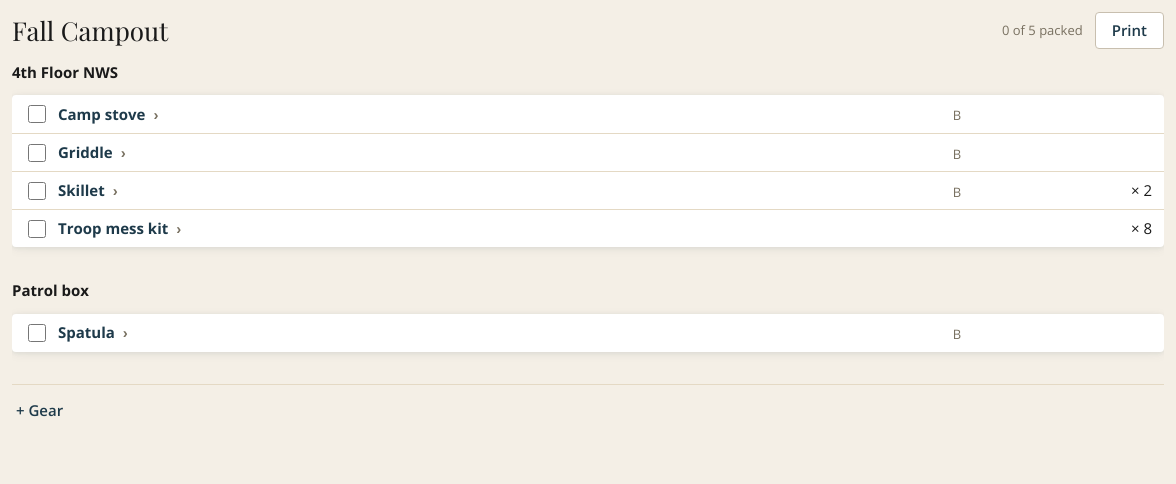
Test: Gear tab › Ticking_SavesAtOnce_WithTheCount_AndShowsWho
Click the checkbox named "Skillet packed": (37, 190) [28,182,46,200]
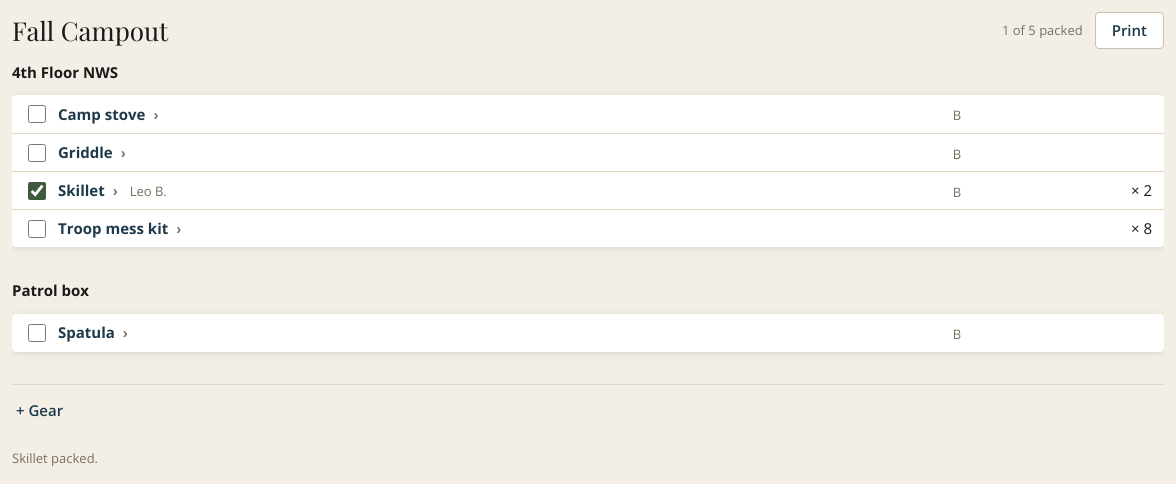
Result: the list item "Skillet › Leo B. B × 2" is shown at [12,171,1164,209]
Result: the text "1 of 5 packed" is shown at [1002,20,1083,40]
